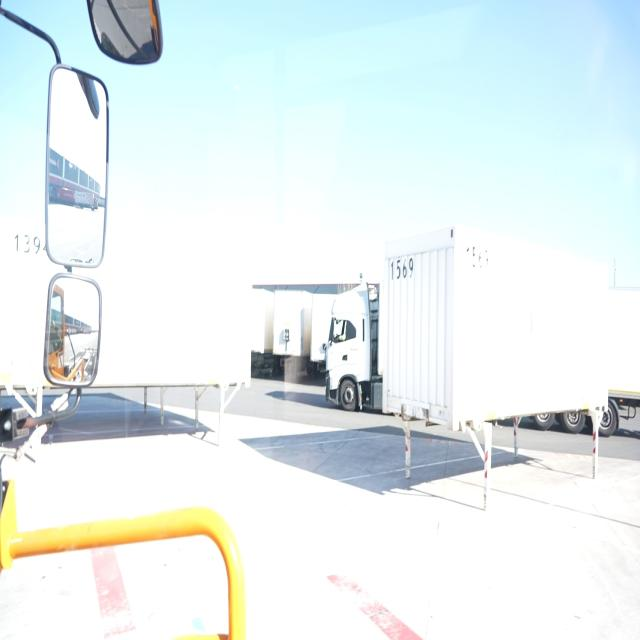Code: (388, 249, 417, 286)
